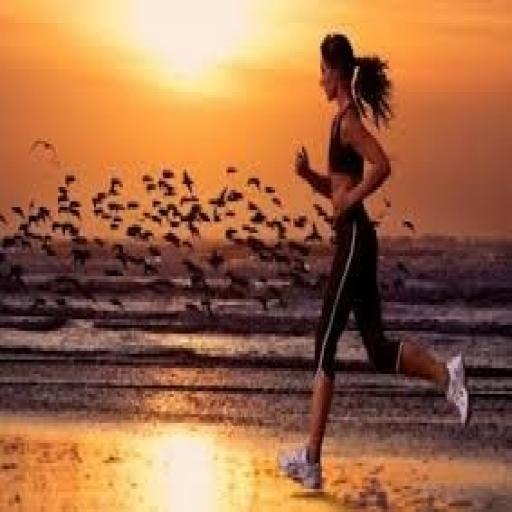running: (277, 29, 474, 495)
